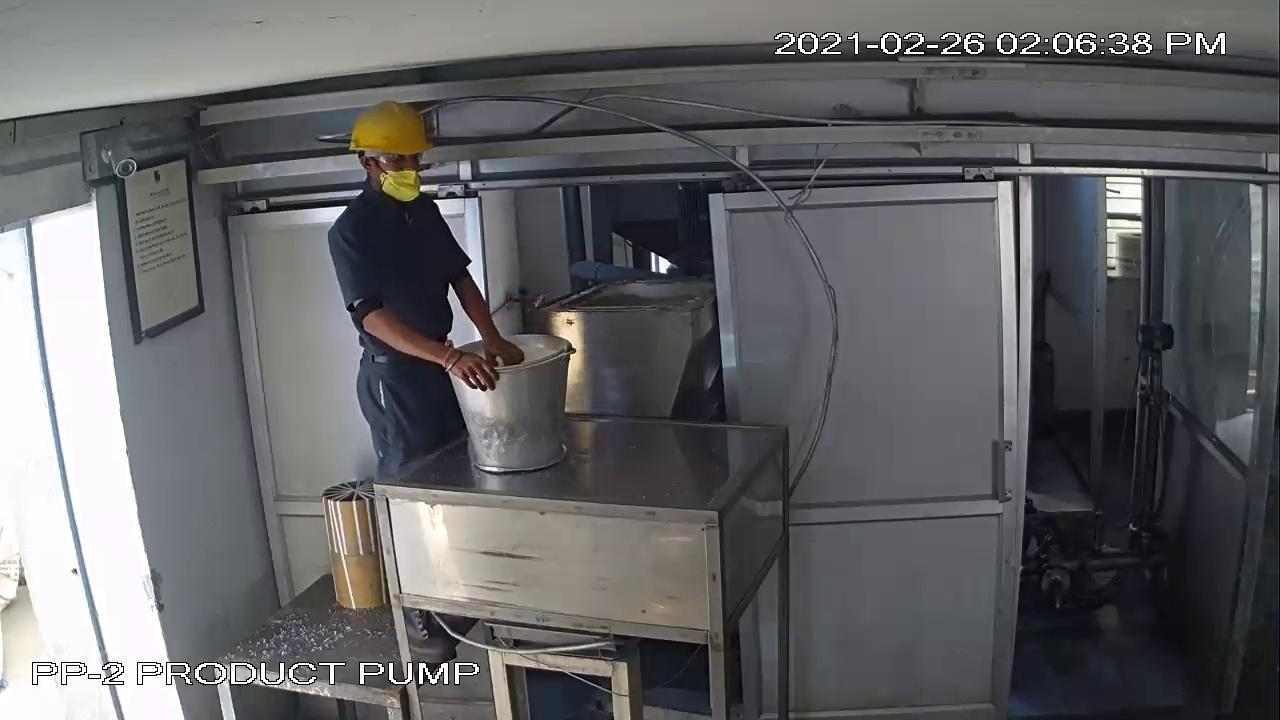helmet: (330, 88, 444, 169)
